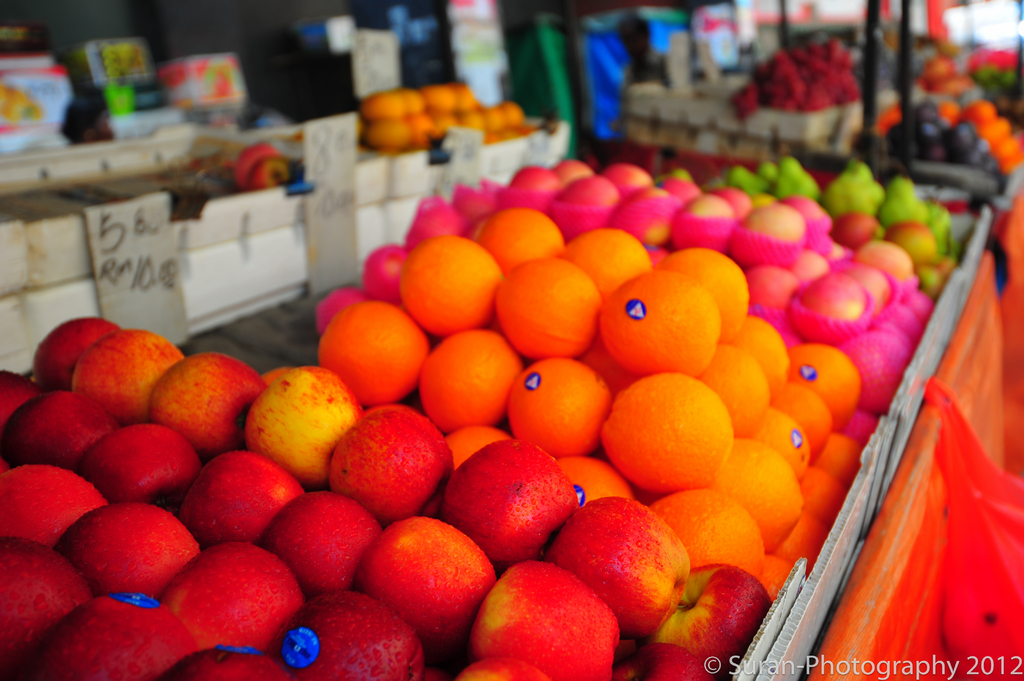Apple: (0, 313, 773, 680), (320, 157, 933, 413), (366, 520, 497, 640)
